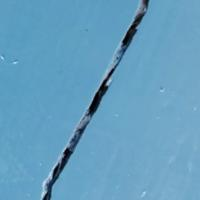crack: (27, 0, 160, 199)
